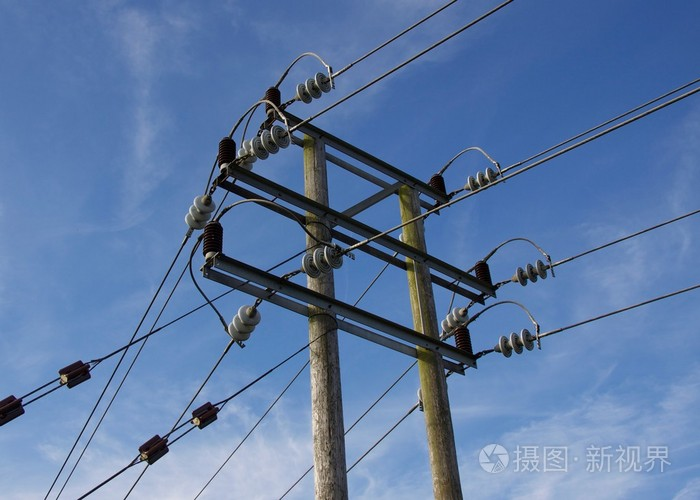insulator: (225, 304, 260, 346), (251, 125, 289, 163), (301, 248, 345, 276), (495, 330, 538, 358), (182, 193, 213, 230), (298, 69, 329, 104), (514, 260, 550, 287), (465, 166, 498, 191), (439, 308, 468, 333)
